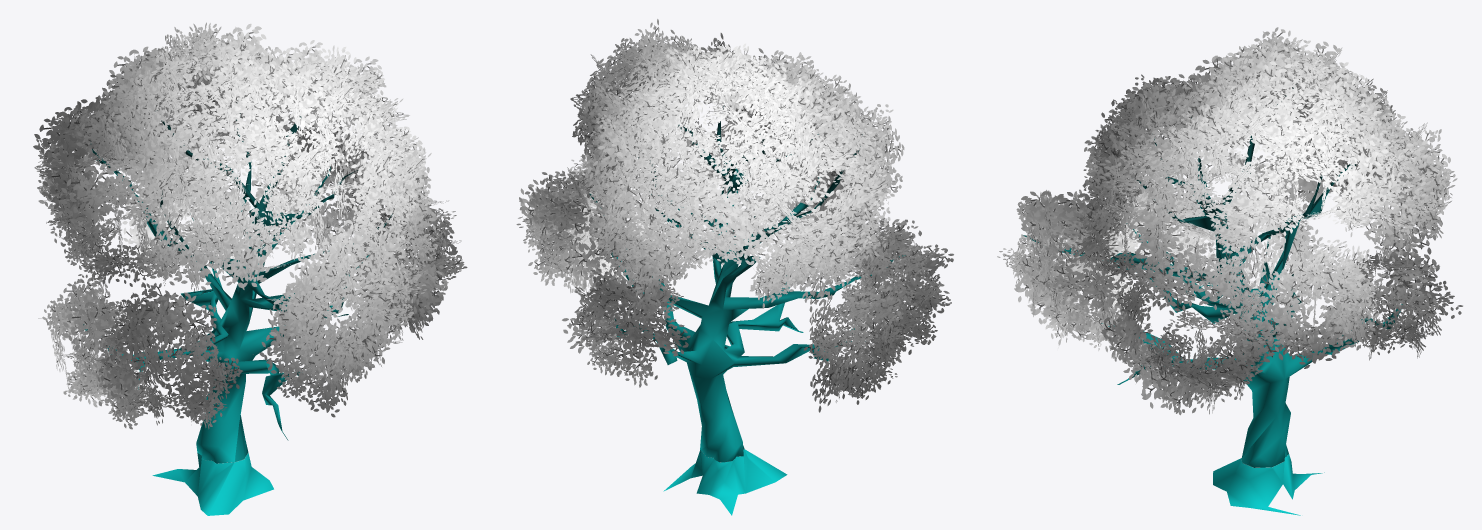
The model's file is HuralyaOak2Separated_V02.fbx.
The picture shows the model from 3 angles, left to right: view 1: azimuth 30°, elevation 25°; view 2: azimuth 150°, elevation 25°; view 3: azimuth 270°, elevation 25°; orthographic projection. The views are drawn at different scales.
Visible parts, largest first — view 1: BarkAndLeaves, Stump; view 2: BarkAndLeaves, Stump; view 3: BarkAndLeaves, Stump.
Boxes of the visible parts, <box> form: BarkAndLeaves: <box>33,22,467,463</box>; Stump: <box>152,452,273,515</box>; BarkAndLeaves: <box>516,19,953,462</box>; Stump: <box>663,449,787,515</box>; BarkAndLeaves: <box>997,27,1462,467</box>; Stump: <box>1213,454,1324,515</box>.
Bounding box in the file's own units: 975 × 1109 × 1035.
